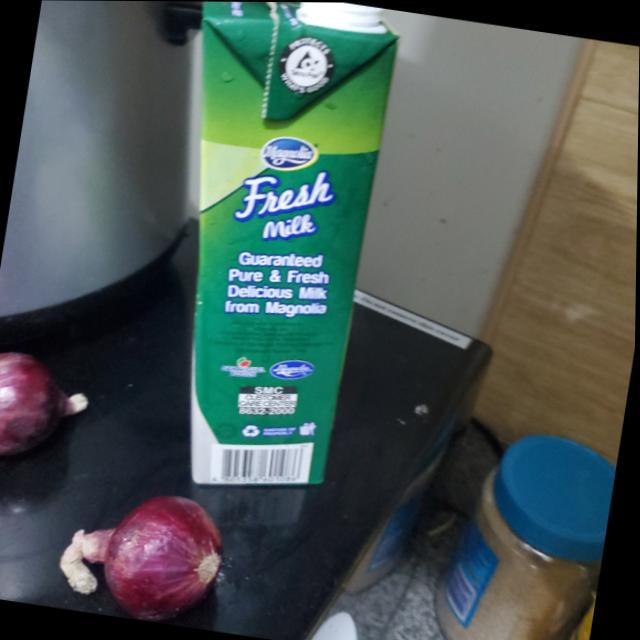milk: (128, 1, 405, 506)
onion: (63, 482, 228, 618), (0, 348, 90, 466)
